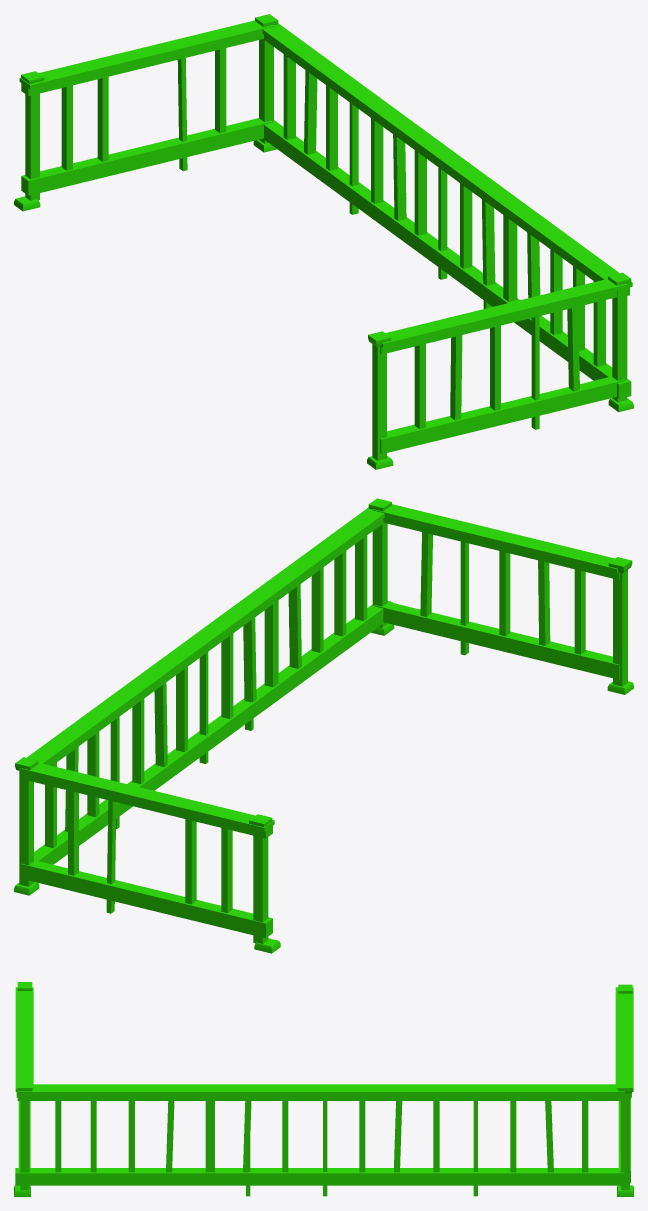
Rendered from Front_03_B.fbx.
3 views of the same model, one above another, from view 1: azimuth 30°, elevation 25°; view 2: azimuth 150°, elevation 25°; view 3: azimuth 270°, elevation 25° (orthographic). The views are drawn at different scales.
Parts seen in each view (by area): view 1: Front_03_B; view 2: Front_03_B; view 3: Front_03_B.
Boxes of the visible parts, left/top/right/bottom form: Front_03_B: left=14, top=14, right=633, bottom=469; Front_03_B: left=14, top=498, right=633, bottom=953; Front_03_B: left=14, top=982, right=633, bottom=1196.
Bounding box in the file's own units: 250 × 120 × 613.
